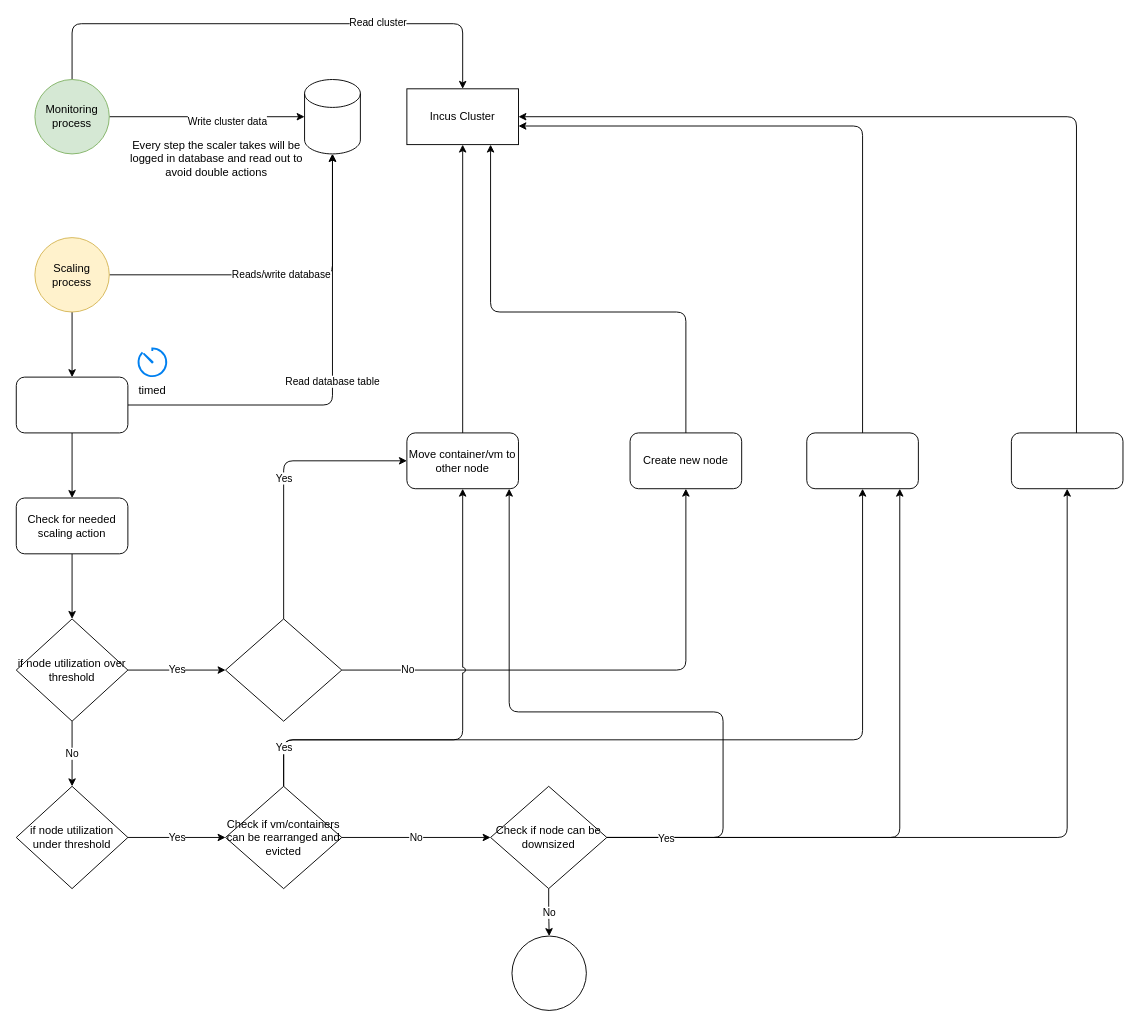
This 1139x1027 diagram has some shape labels left out. The shapes that lost their labels are listed below. From the top down, each one's box as (x1, y1, x2, y2) in pixels, then its label:
(304, 79, 360, 154): Scaler database
(15, 376, 128, 433): Check cluster data
(806, 432, 918, 489): Node deletion
(1010, 432, 1123, 489): Node creation
(225, 618, 342, 721): Check if vm/container can be migrated to other node
(511, 935, 586, 1010): End
